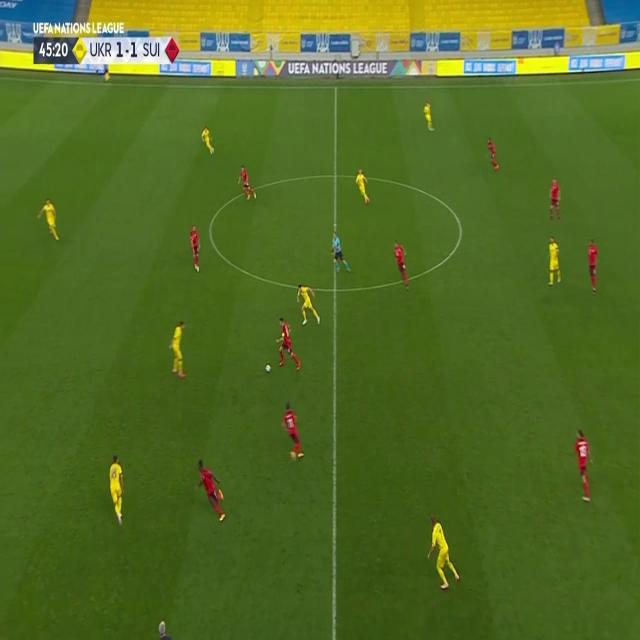ball: (265, 363, 271, 373)
player: (424, 516, 460, 592), (195, 458, 227, 524), (572, 427, 594, 504), (280, 399, 305, 461), (275, 318, 301, 372), (167, 319, 187, 379), (108, 454, 124, 526), (295, 283, 321, 327), (36, 198, 62, 241), (392, 240, 410, 290), (330, 229, 350, 274), (546, 236, 562, 286), (586, 238, 600, 294), (238, 164, 257, 202), (188, 225, 202, 272), (354, 168, 371, 205), (548, 177, 562, 221), (486, 137, 500, 171), (201, 124, 215, 156), (423, 100, 435, 130), (157, 619, 171, 639), (103, 64, 111, 83)
